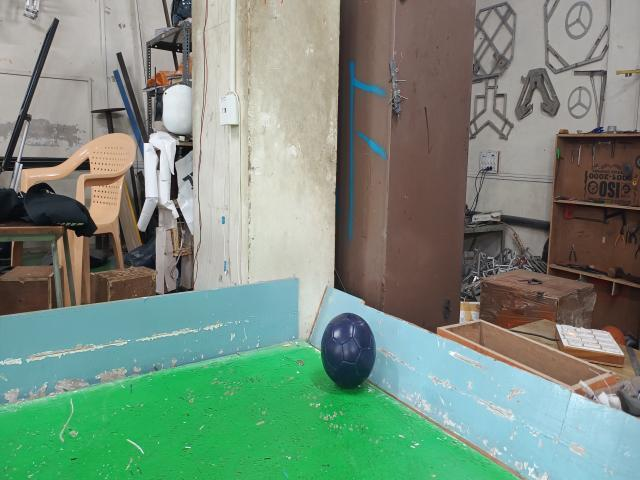kaalyya: (320, 313, 376, 387)
